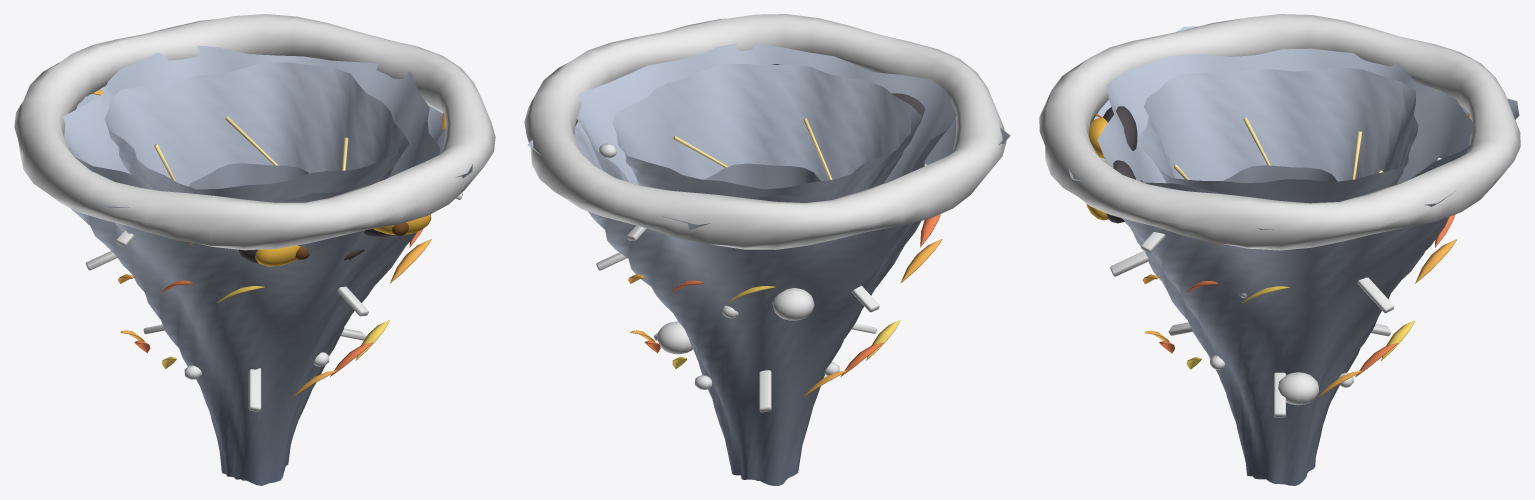
Rendered from tornado.fbx.
3 renders of one model, left to right at view 1: azimuth 30°, elevation 25°; view 2: azimuth 150°, elevation 25°; view 3: azimuth 270°, elevation 25°, orthographic.
Visible parts, largest first — view 1: StormLip, WindShell.002, WindShell, WindShell.001, tornado_Glow, DustColumn, DebrisRing0_Petal, DebrisRing1_Petal, DebrisRing0_Bark, DebrisRing1_Bark; view 2: StormLip, WindShell.002, WindShell, WindShell.001, DustColumn, DebrisRing1_Petal, DebrisRing0_Petal, Pumpkin.001, Pumpkin, DebrisRing0_Bark, DebrisRing1_Bark, tornado_Glow; view 3: StormLip, WindShell.002, WindShell, WindShell.001, DustColumn, DebrisRing0_Petal, tornado_Glow, Pumpkin, DebrisRing1_Petal, DebrisRing1_Bark, tornado_Organic, DebrisRing0_Bark.
Boxes of the visible parts, x1,y1,x2,y2 form: StormLip: (14,14,495,250); WindShell.002: (70,86,472,485); WindShell: (104,62,409,480); WindShell.001: (62,45,440,479); tornado_Glow: (154,116,431,266); DustColumn: (189,163,308,189); DebrisRing0_Petal: (120,320,389,396); DebrisRing1_Petal: (118,229,431,302); DebrisRing0_Bark: (143,324,366,411); DebrisRing1_Bark: (86,251,368,316); StormLip: (524,14,1006,249); WindShell.002: (528,117,1010,485); WindShell: (612,63,922,480); WindShell.001: (576,43,956,479); DustColumn: (704,163,820,189); DebrisRing1_Petal: (628,214,942,302); DebrisRing0_Petal: (630,320,900,397); Pumpkin.001: (772,288,814,320); Pumpkin: (657,321,692,354); DebrisRing0_Bark: (654,323,876,412); DebrisRing1_Bark: (596,252,879,312); tornado_Glow: (673,118,832,179); StormLip: (1039,14,1520,250); WindShell.002: (1069,26,1519,485); WindShell: (1139,67,1418,203); WindShell.001: (1097,48,1474,479); DustColumn: (1223,165,1337,182); DebrisRing0_Petal: (1145,320,1414,397); tornado_Glow: (1086,117,1382,220); Pumpkin: (1278,372,1318,405); DebrisRing1_Petal: (1142,214,1456,303); DebrisRing1_Bark: (1110,251,1394,313); tornado_Organic: (1103,106,1143,223); DebrisRing0_Bark: (1168,322,1391,417).
Size of the model in its own units: 340 by 283 by 340.
